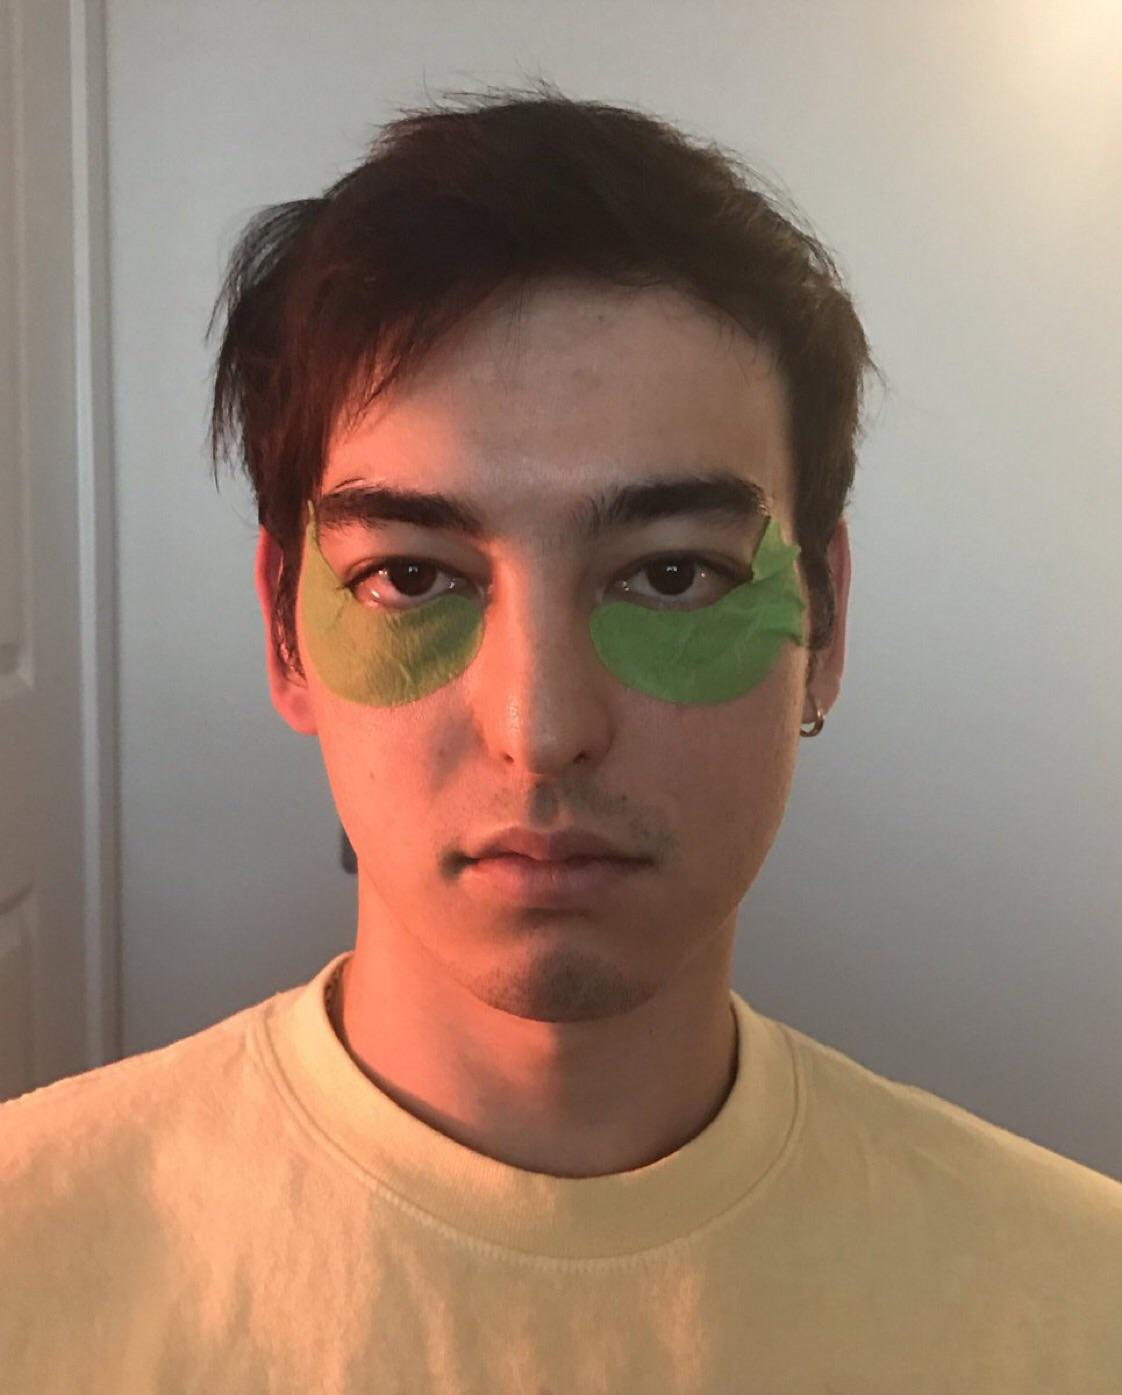person: (1, 69, 1122, 1395)
